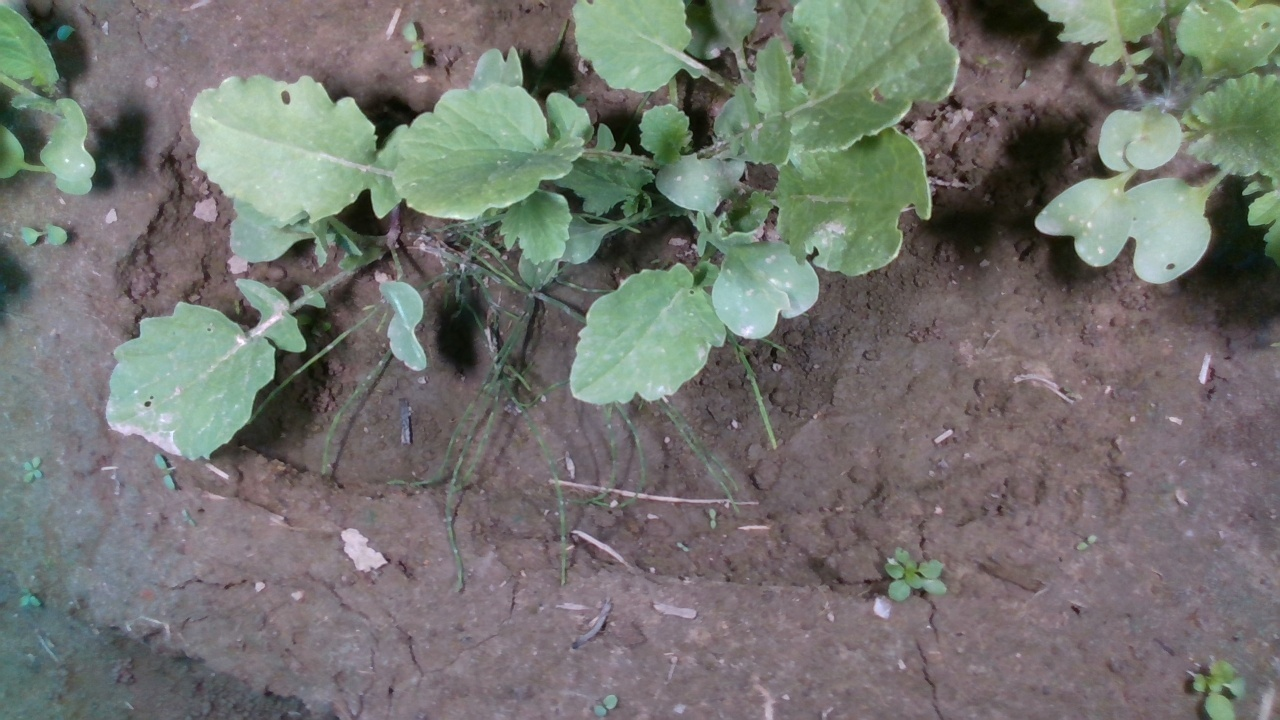weed: (401, 20, 425, 70), (18, 223, 68, 245), (154, 454, 175, 491), (18, 582, 42, 609), (21, 454, 43, 483), (592, 693, 617, 717), (1076, 532, 1097, 551), (707, 505, 717, 530)
